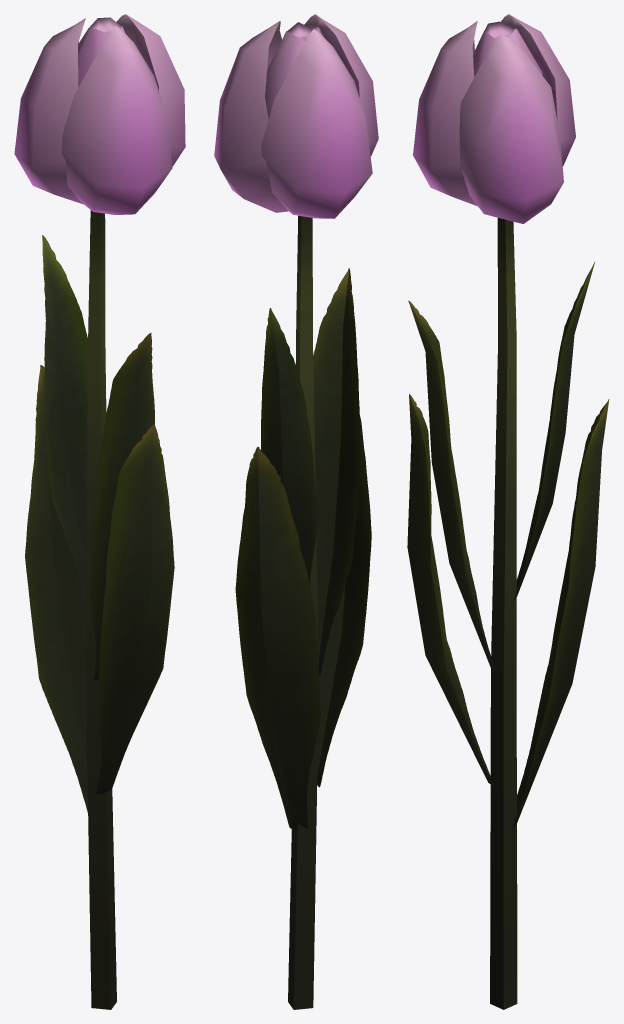
File: Flower_A07.fbx
3 renders of one model, left to right at view 1: azimuth 30°, elevation 25°; view 2: azimuth 150°, elevation 25°; view 3: azimuth 270°, elevation 25°, orthographic.
Parts seen in each view (by area): view 1: Flower_A07; view 2: Flower_A07; view 3: Flower_A07.
Boxes of the visible parts, <box> form: Flower_A07: <box>14,14,185,1009</box>; Flower_A07: <box>214,14,378,1009</box>; Flower_A07: <box>407,14,609,1009</box>.
Bounding box in the file's own units: 5.97 × 38.26 × 7.15.
